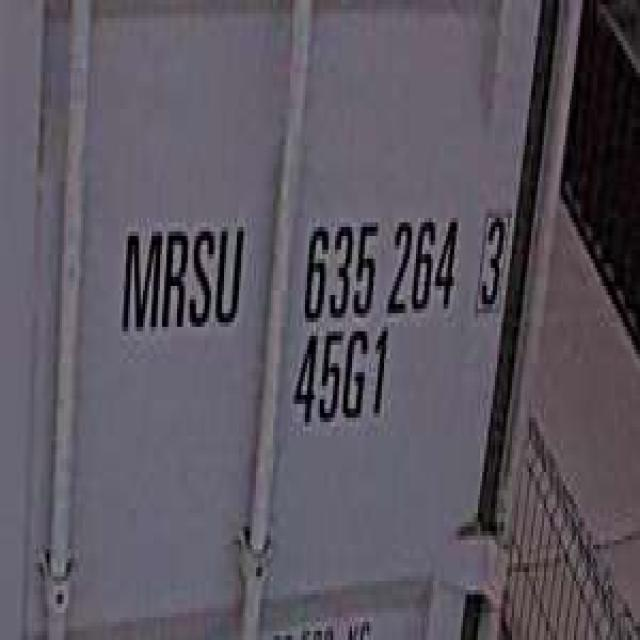dv: (471, 195, 510, 322)
owner: (113, 200, 248, 345)
serial: (296, 195, 461, 327)
size: (286, 322, 397, 440)
